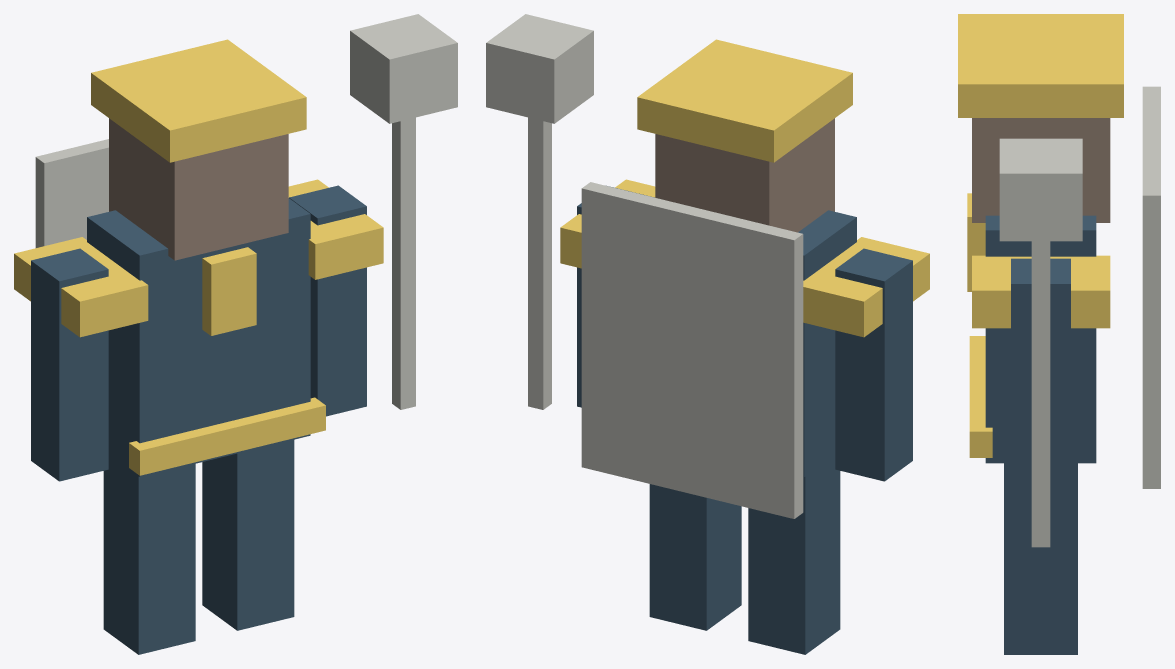
File: 07_vela_emberkin_marshal_from_executive.glb
3 views of the same model, side by side, from view 1: azimuth 30°, elevation 25°; view 2: azimuth 150°, elevation 25°; view 3: azimuth 270°, elevation 25° (orthographic). The views are drawn at different scales.
Parts seen in each view (by area): view 1: Vela Emberkin, Marshal from Executive; view 2: Vela Emberkin, Marshal from Executive; view 3: Vela Emberkin, Marshal from Executive.
Part boxes in pixels (x1,y1,x2,y2): Vela Emberkin, Marshal from Executive: (14, 14, 457, 654); Vela Emberkin, Marshal from Executive: (486, 14, 929, 654); Vela Emberkin, Marshal from Executive: (958, 14, 1160, 654).
Bounding box in the file's own units: 1.13 × 1.48 × 0.4794.
